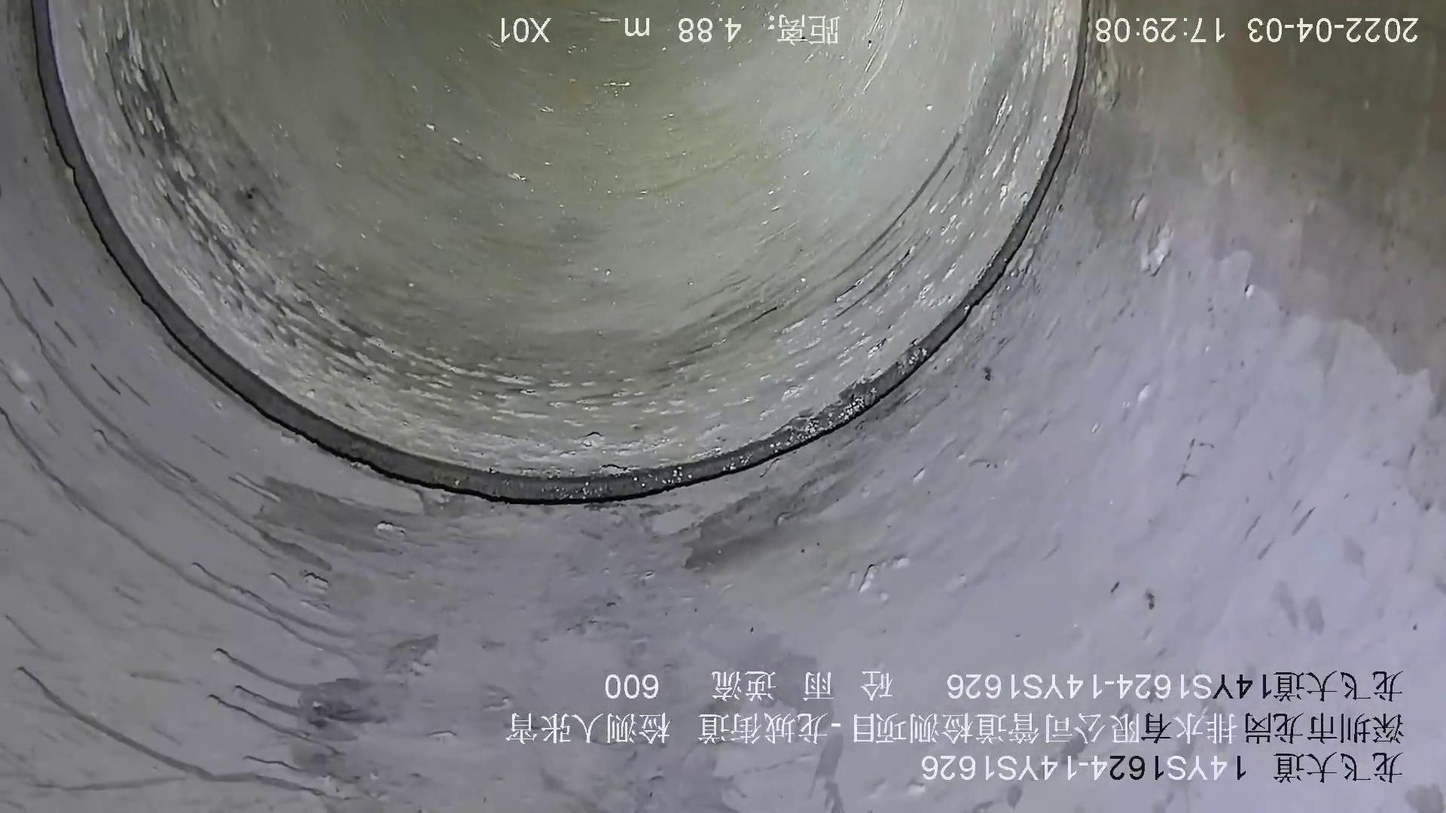CKTJ: (32, 1, 1100, 504)
